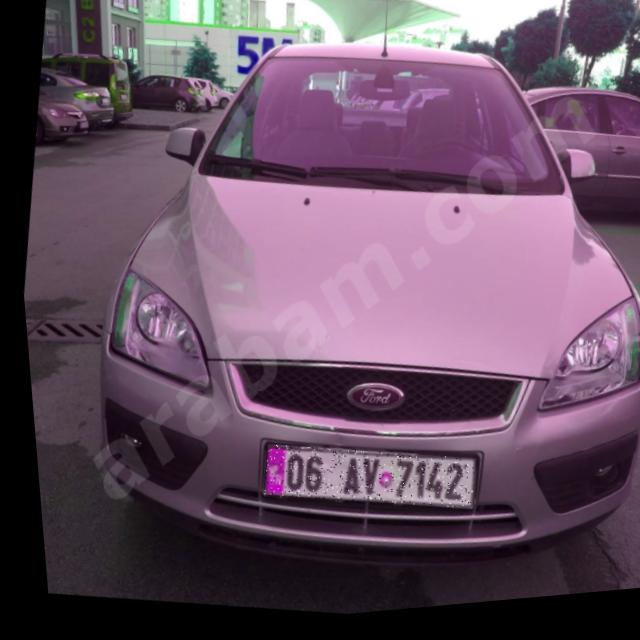license_plate: (253, 435, 471, 531)
